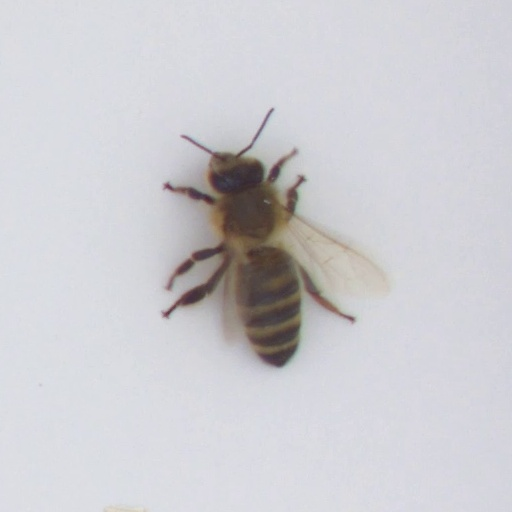Bee: (195, 134, 329, 375)
Thorax: (221, 183, 286, 242)
